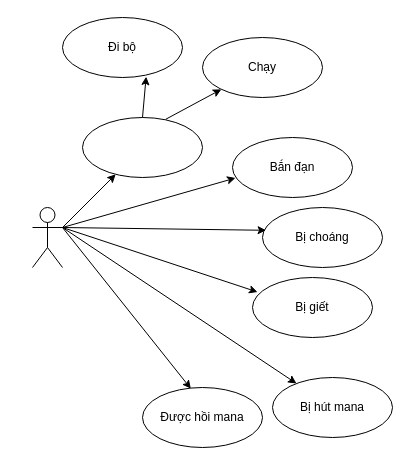
Some shapes in this 410 by 465 pixel diagram are drawn without their labels. Each missing label, with the box of its shape:
Di chuyển: (82, 116, 202, 178)
Người chơi: (32, 206, 62, 268)
